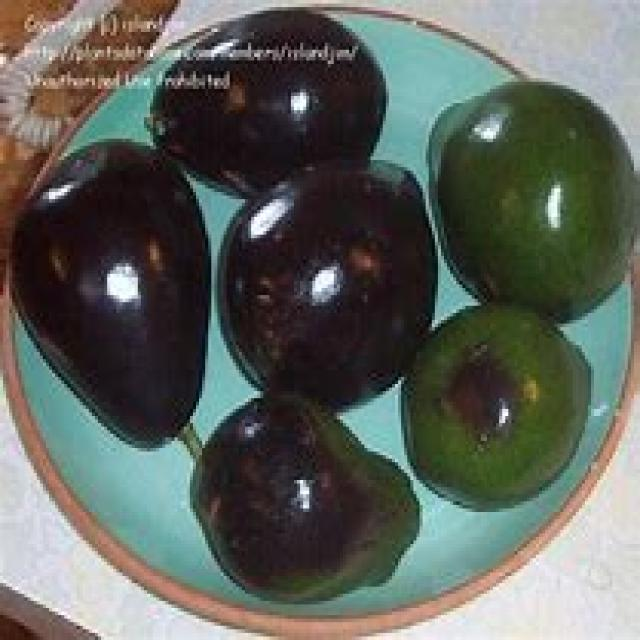Avocado: (6, 151, 215, 452), (416, 69, 640, 309), (190, 393, 424, 607), (150, 7, 394, 197), (218, 161, 401, 402), (399, 309, 606, 519)
